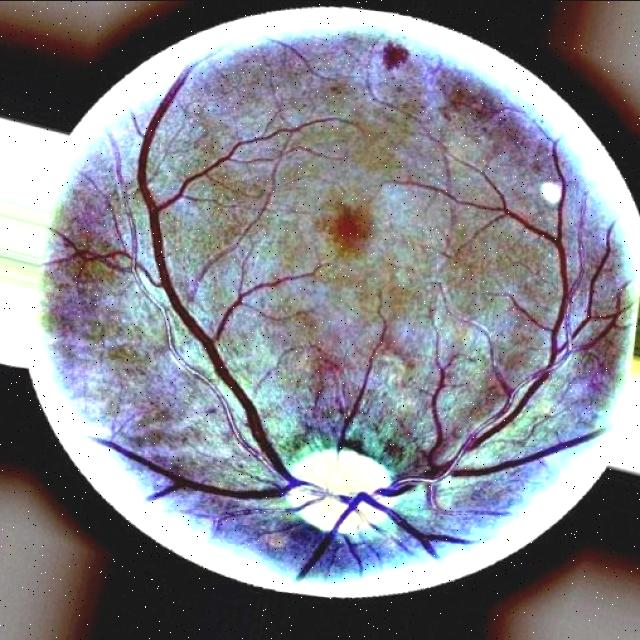Macula: (321, 200, 373, 258)
Nerves: (139, 81, 292, 479), (116, 446, 290, 499), (449, 430, 605, 476), (398, 519, 471, 557), (214, 489, 287, 498), (391, 476, 433, 489)
Optic Disk: (288, 447, 406, 538)
